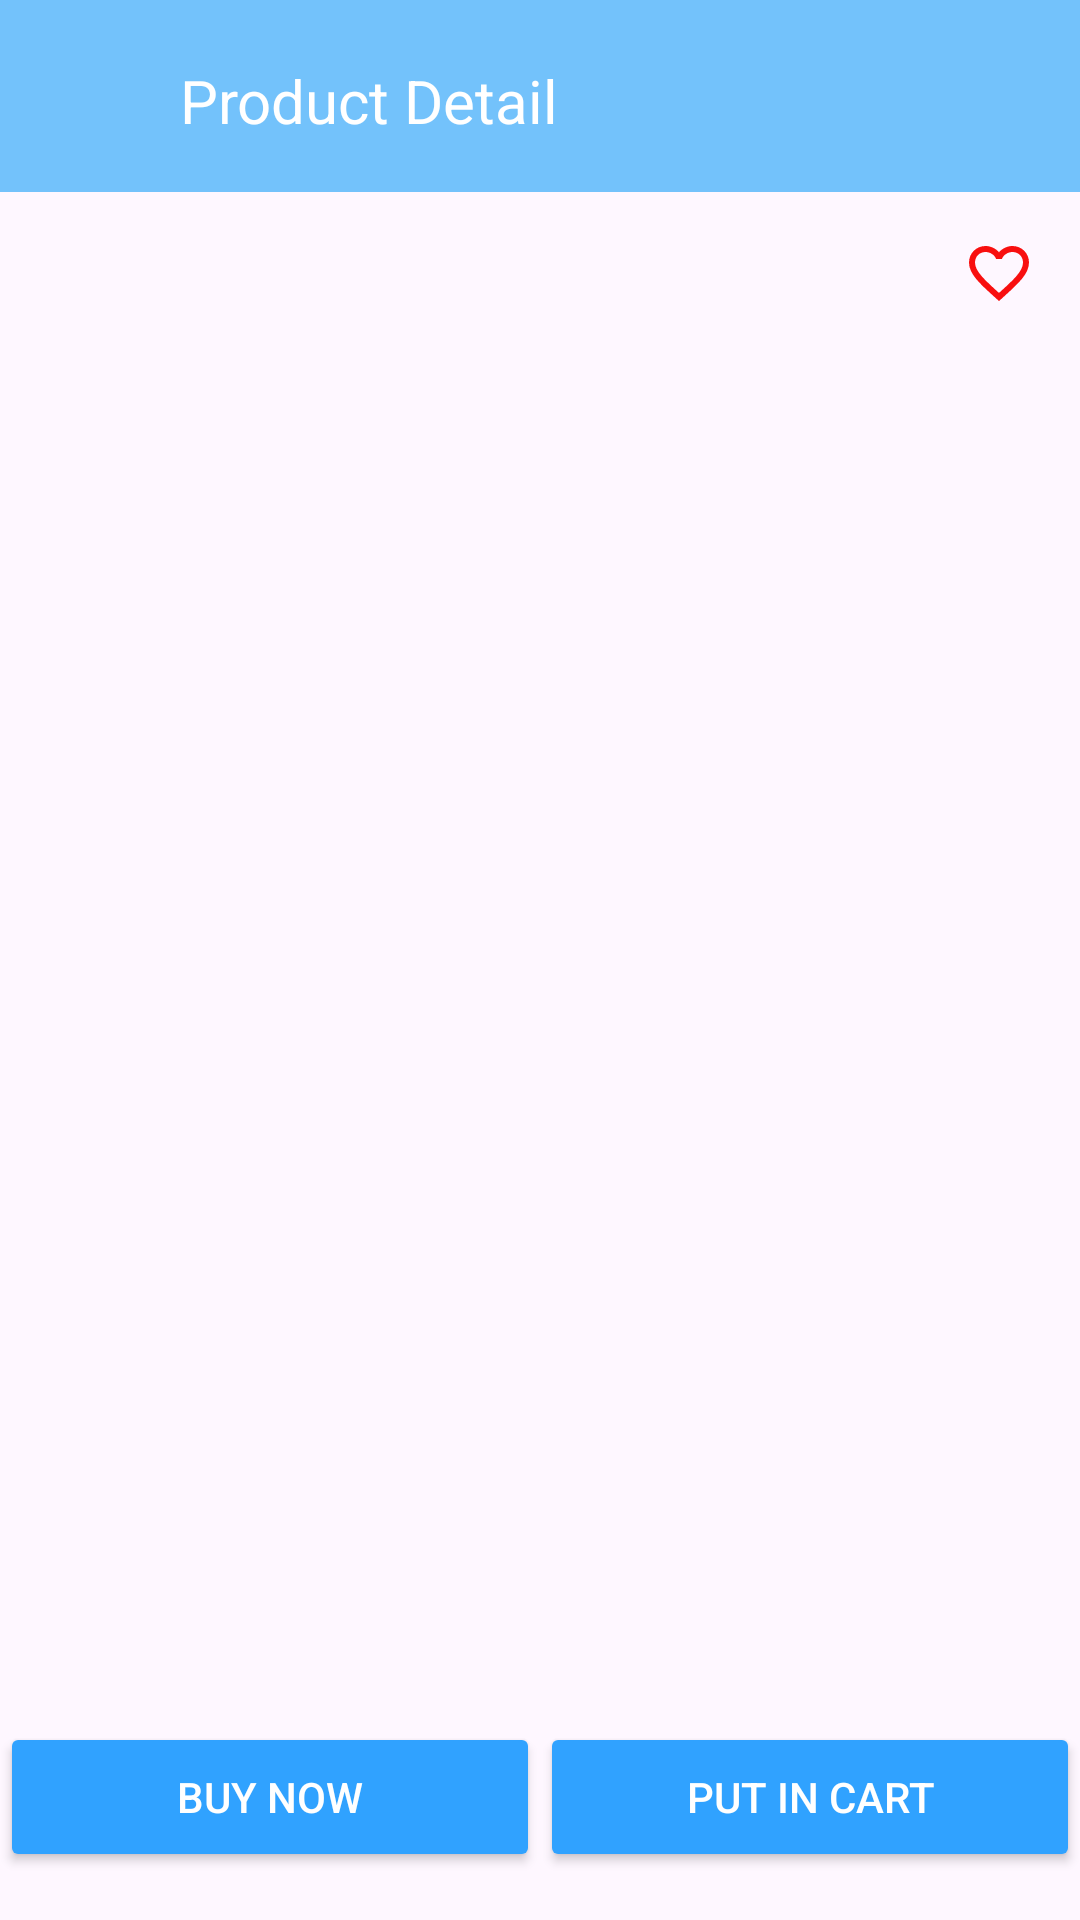

Icons on this 1080w x 1920h Android screen, each with the point to tap as (x,y):
favourite false: (999,273)
